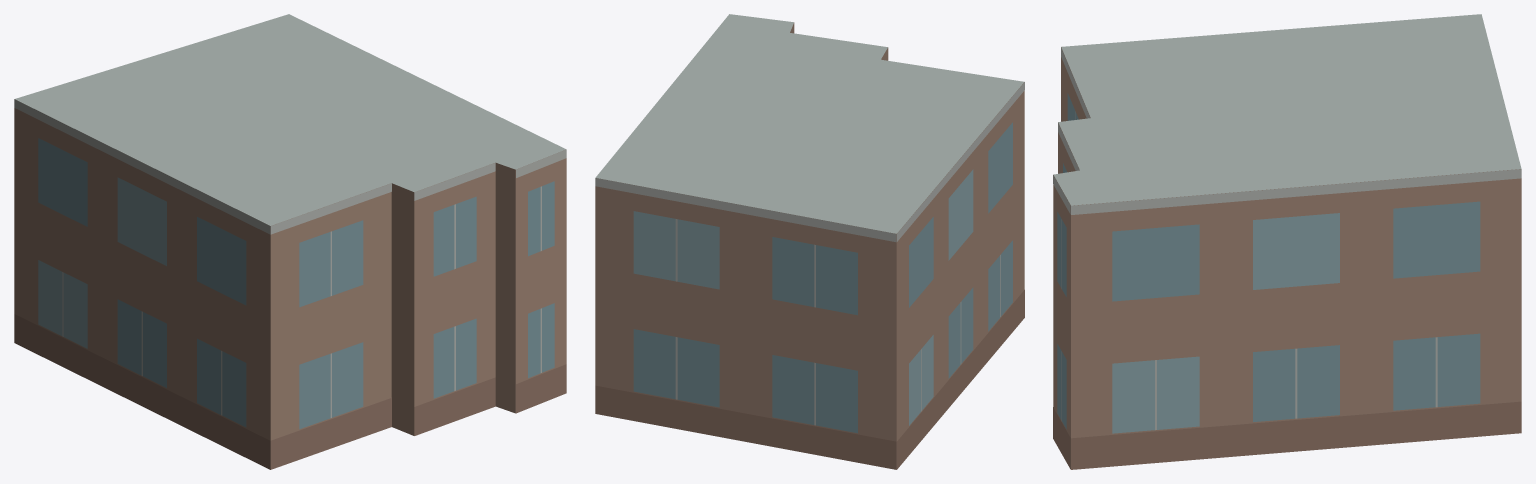
Rendered from survey-upis-32500829.glb.
The picture shows the model from 3 angles, left to right: view 1: azimuth 30°, elevation 25°; view 2: azimuth 150°, elevation 25°; view 3: azimuth 270°, elevation 25°; orthographic projection. The views are drawn at different scales.
Parts seen in each view (by area): view 1: survey-upis-32500829.tmp; view 2: survey-upis-32500829.tmp; view 3: survey-upis-32500829.tmp.
Boxes of the visible parts, x1,y1,x2,y2 form: survey-upis-32500829.tmp: (14,14,566,469); survey-upis-32500829.tmp: (595,14,1024,469); survey-upis-32500829.tmp: (1053,14,1521,469).
Size of the model in its own units: 10.59 by 6.8 by 10.93.
